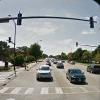Crosswalk: (6, 78, 96, 100)
